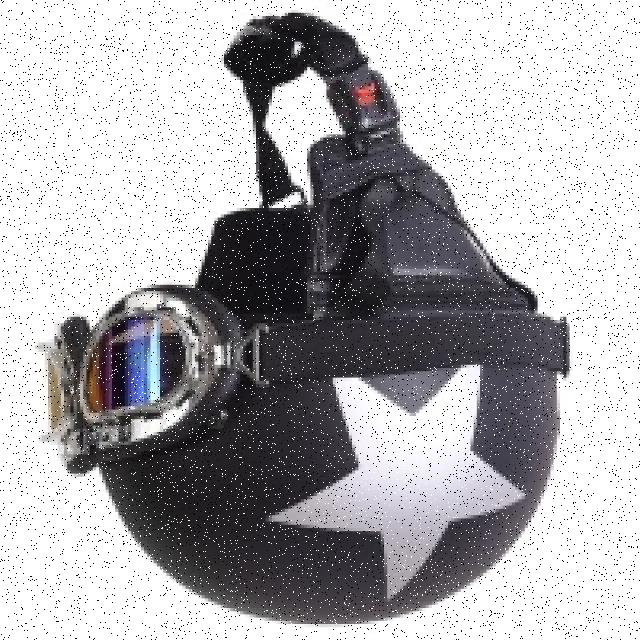Helmet: (49, 16, 568, 622)
